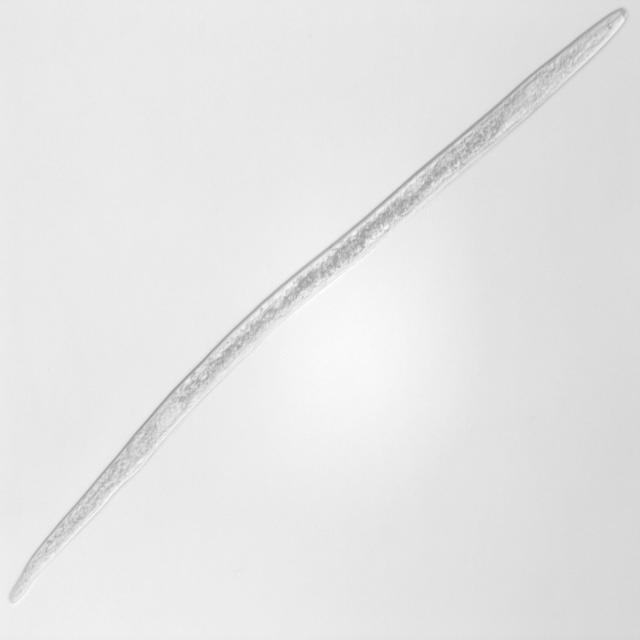Pratylenchus: (0, 3, 630, 606)
